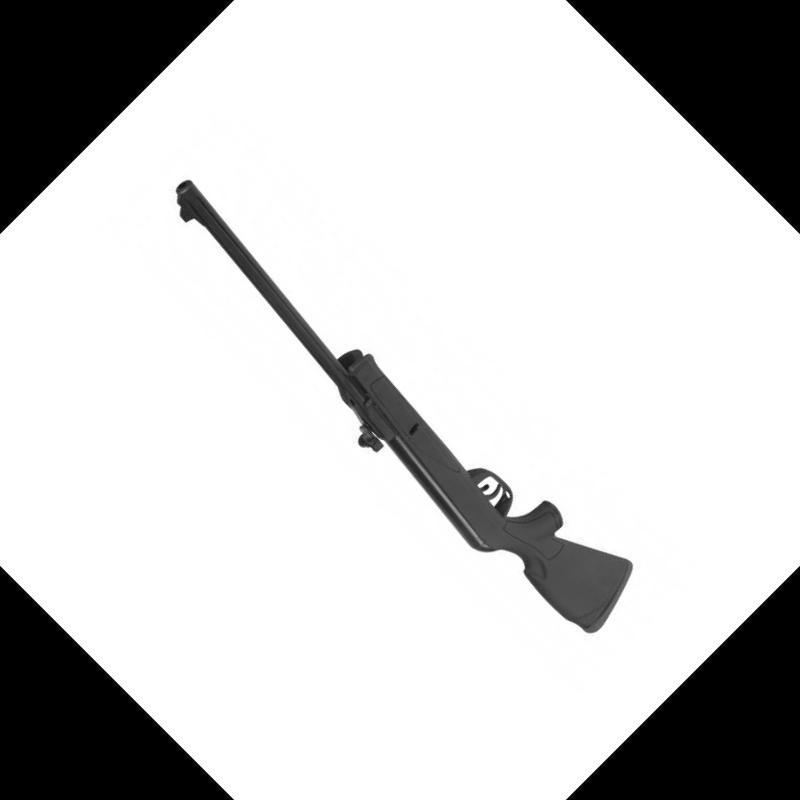larga: (173, 177, 635, 633)
